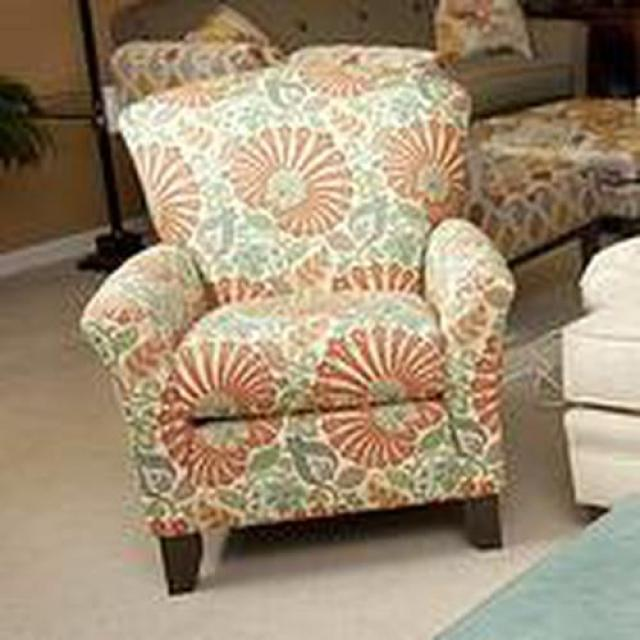sofa: (79, 46, 516, 599)
